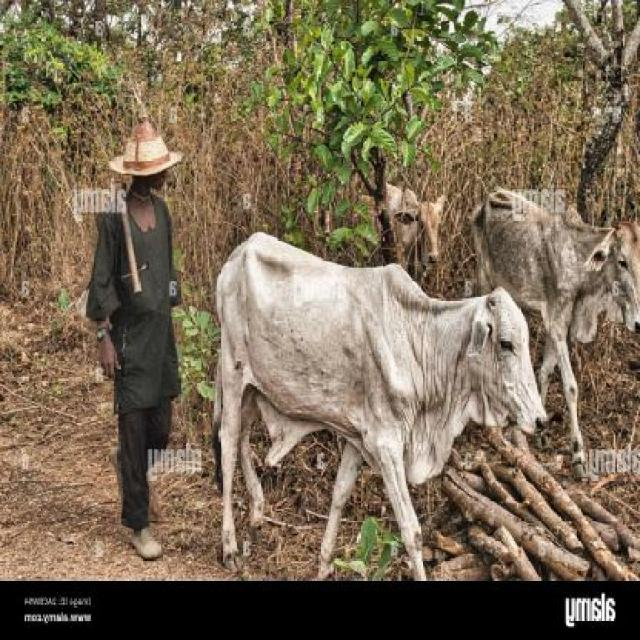Cow: (212, 231, 550, 571), (468, 184, 638, 482), (375, 180, 443, 286)
